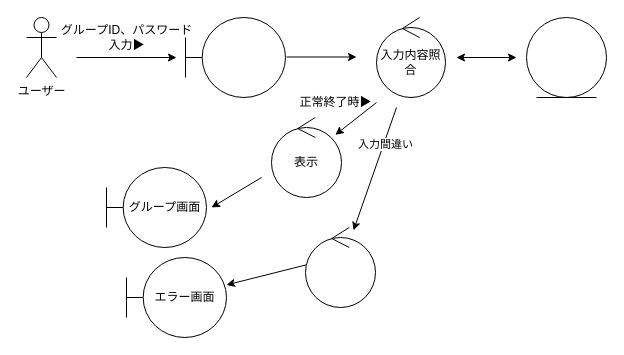
The diagram is 624 pixels wide and 355 high, and some of its shapes have lost their labels. Here are the shapes that lost their labels. From the top down, the centre of each, then its label:
At point (235, 57): "グループ参加画面".
At point (566, 57): "グループ".
At point (340, 267): "エラー画面表示".
